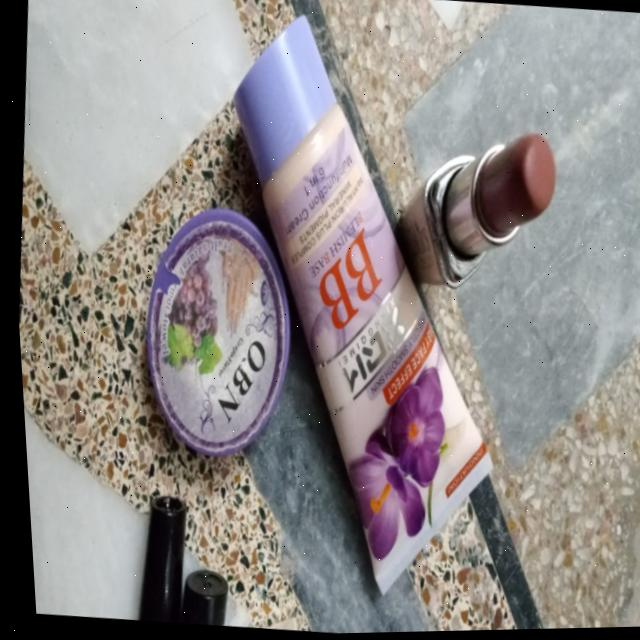bb cream: (217, 0, 518, 605)
lip stick: (392, 98, 575, 316)
nail polish remover: (118, 204, 300, 487)
